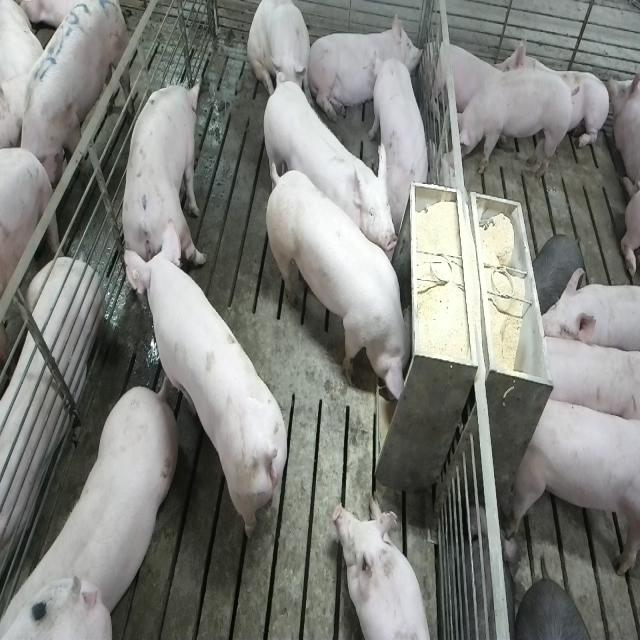Feeding: (269, 162, 421, 407)
Sitting: (247, 1, 312, 106)
Standing: (128, 241, 292, 549), (6, 377, 183, 631), (258, 78, 397, 268), (508, 388, 638, 582), (16, 0, 131, 205), (120, 75, 207, 276), (451, 69, 576, 177), (536, 332, 637, 430), (373, 56, 431, 222), (538, 269, 640, 353)
Sternal_lying: (0, 226, 100, 599), (334, 498, 436, 640), (496, 30, 608, 155), (308, 14, 422, 122), (428, 34, 501, 119)
